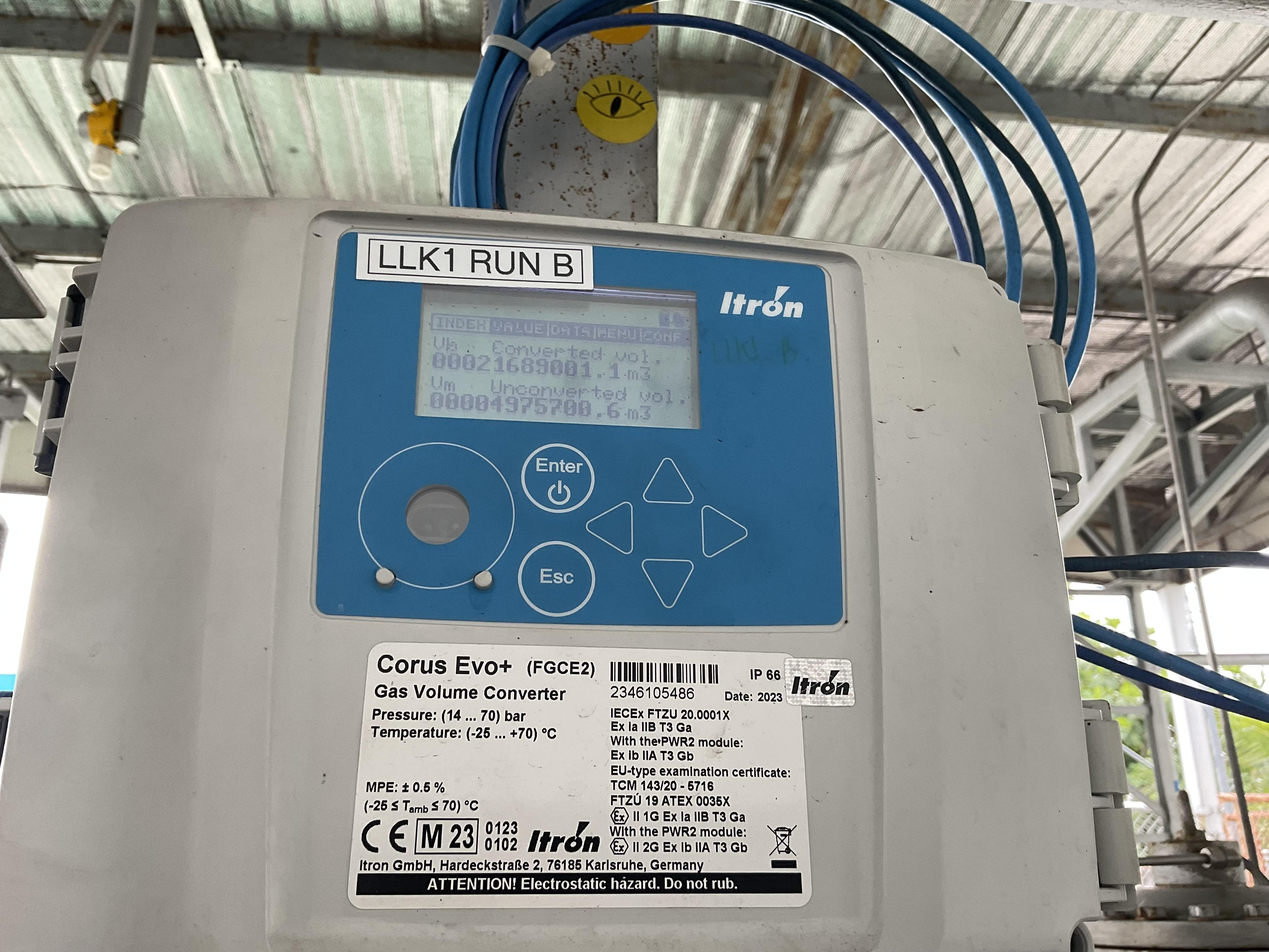digital_screen: (415, 277, 708, 429)
